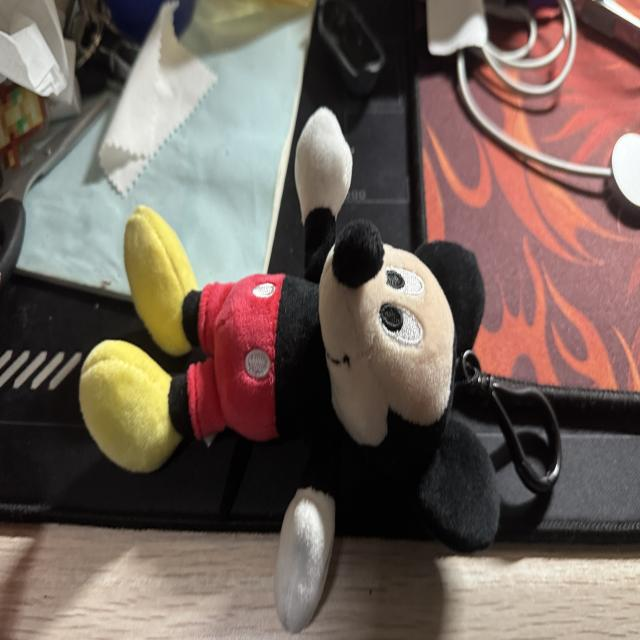mickey: (80, 109, 499, 631)
